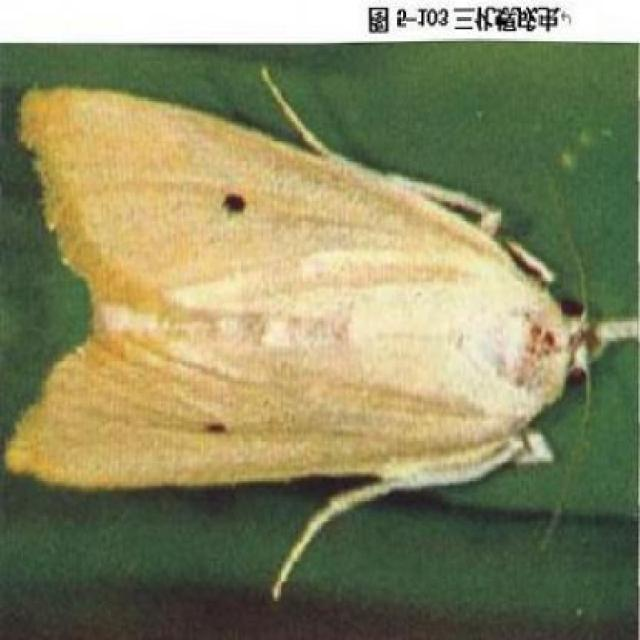stem-borer: (4, 59, 638, 606)
